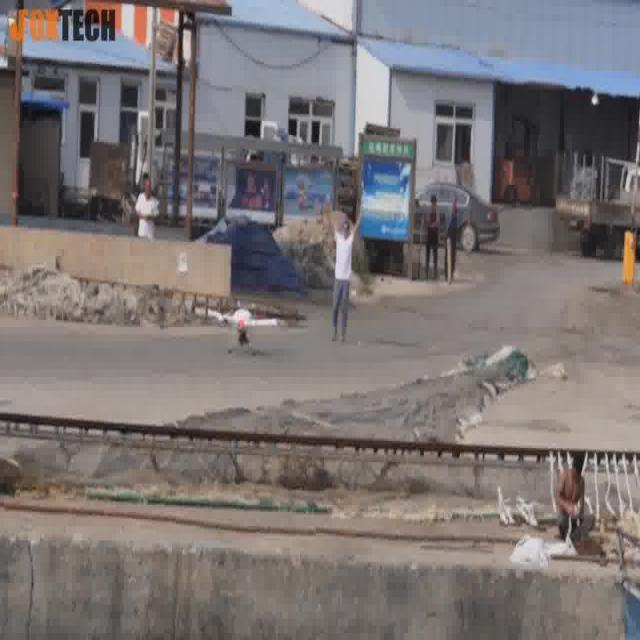drone: (205, 298, 283, 356)
